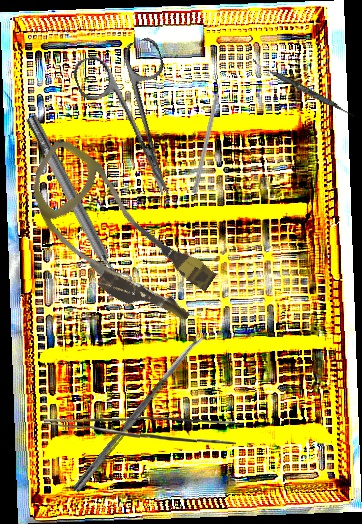Cannula: (1, 135, 233, 338)
Chopper: (192, 75, 230, 196)
Fixation Ring: (18, 109, 136, 300)
Iris Scissors: (69, 35, 205, 210)
Spatula Surgical: (249, 59, 357, 118)
Surgical Spoon: (72, 329, 208, 494)
Tissue Forceps: (44, 415, 236, 448)
